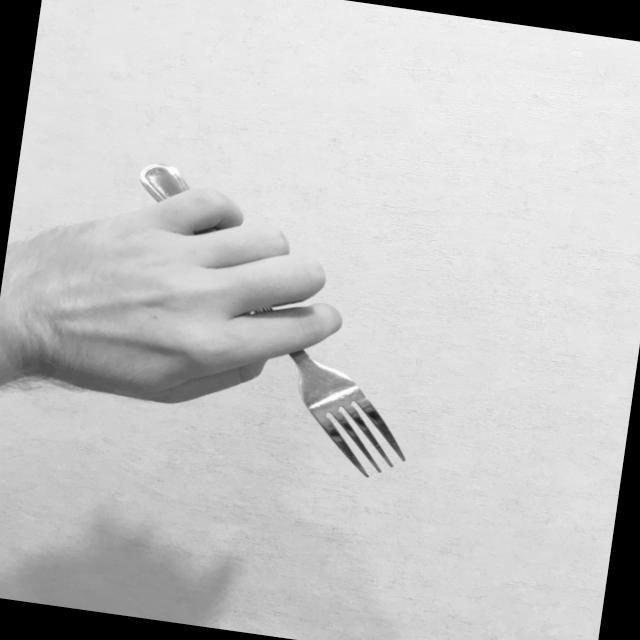fork: (104, 156, 445, 484)
